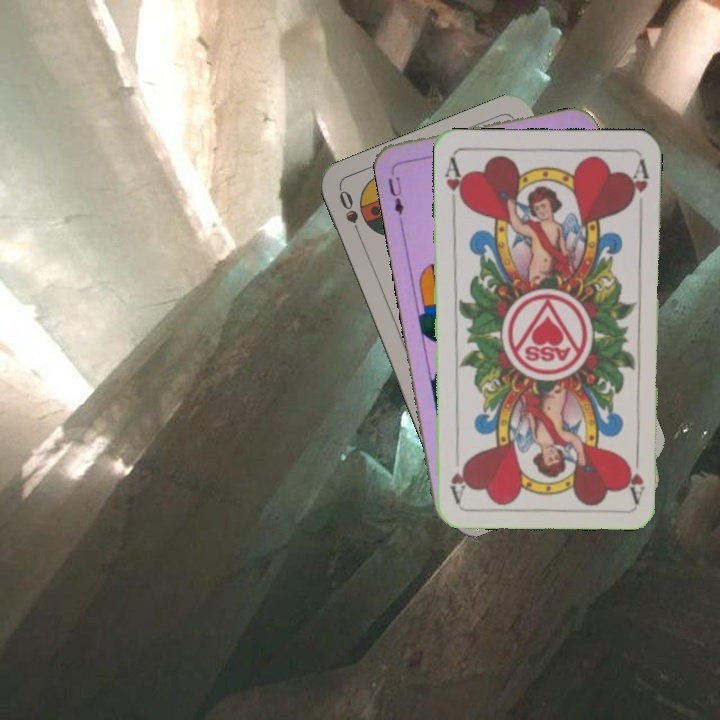EU: (384, 164, 406, 218)
HA: (440, 153, 467, 212), (625, 444, 648, 503)
SO: (335, 186, 365, 243)
